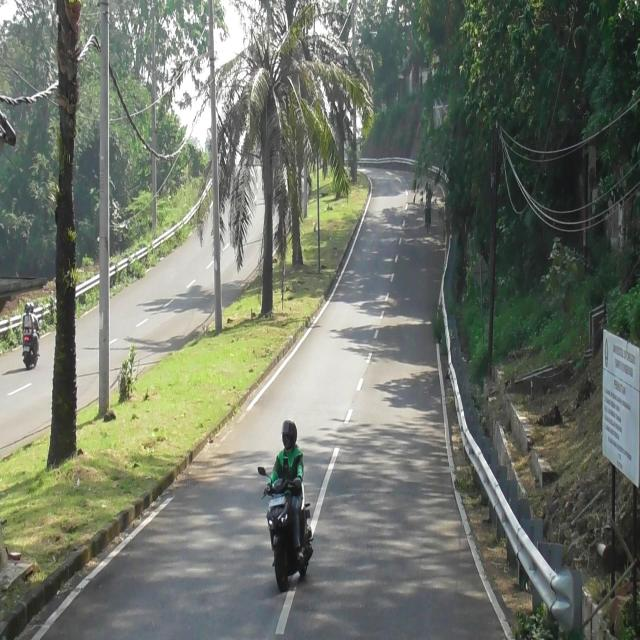motorcycle: (262, 469, 314, 590), (22, 334, 39, 368)
person: (265, 418, 304, 560), (30, 304, 39, 356), (22, 302, 32, 348)
rider_region: (257, 421, 315, 594), (21, 302, 40, 372)
